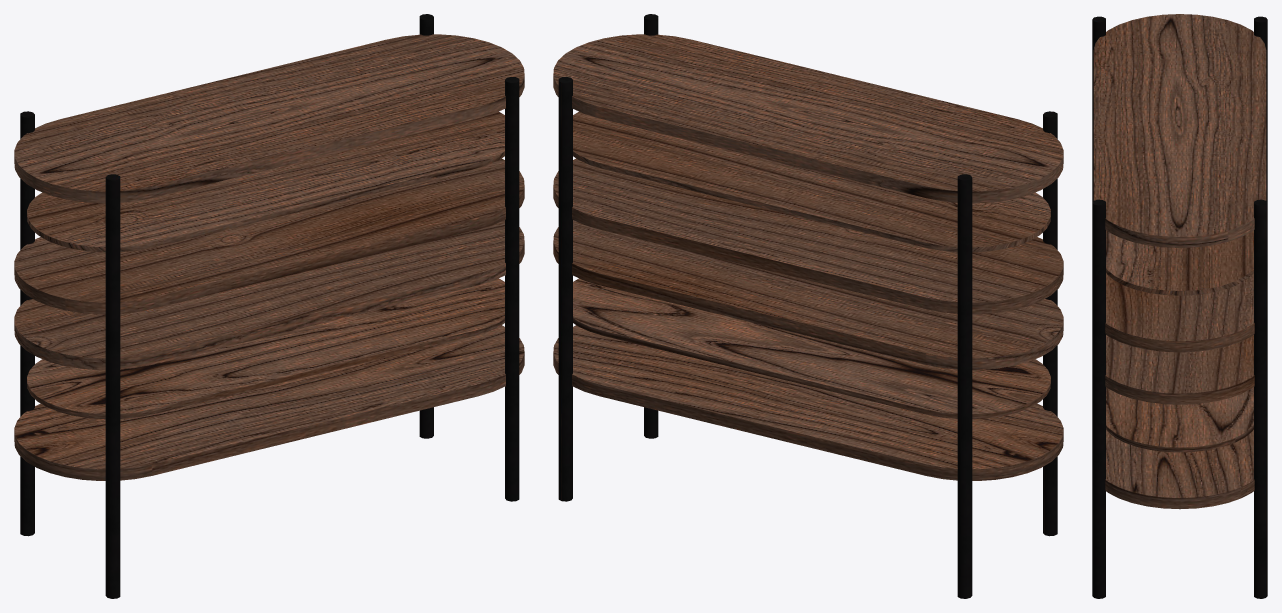
File: meja_susun.fbx
3 views of the same model, side by side, from view 1: azimuth 30°, elevation 25°; view 2: azimuth 150°, elevation 25°; view 3: azimuth 270°, elevation 25° (orthographic). The views are drawn at different scales.
Visible parts, largest first — view 1: Cylinder.033, Cylinder.032, Cylinder.027, Cylinder.028, Cylinder.034, Cylinder.029, Cylinder.035; view 2: Cylinder.033, Cylinder.032, Cylinder.027, Cylinder.028, Cylinder.034, Cylinder.029, Cylinder.035; view 3: Cylinder.033, Cylinder.035, Cylinder.032, Cylinder.027, Cylinder.028, Cylinder.029, Cylinder.034.
Boxes of the visible parts, bbox=[...] form: Cylinder.033: bbox=[14, 34, 524, 203]; Cylinder.032: bbox=[14, 158, 524, 314]; Cylinder.027: bbox=[14, 325, 524, 480]; Cylinder.028: bbox=[14, 220, 524, 369]; Cylinder.034: bbox=[27, 111, 504, 252]; Cylinder.029: bbox=[27, 278, 504, 419]; Cylinder.035: bbox=[20, 14, 519, 598]; Cylinder.033: bbox=[553, 34, 1063, 203]; Cylinder.032: bbox=[553, 158, 1063, 314]; Cylinder.027: bbox=[553, 325, 1063, 480]; Cylinder.028: bbox=[553, 220, 1063, 369]; Cylinder.034: bbox=[573, 111, 1050, 252]; Cylinder.029: bbox=[573, 278, 1050, 419]; Cylinder.035: bbox=[558, 14, 1057, 598]; Cylinder.033: bbox=[1093, 14, 1266, 247]; Cylinder.035: bbox=[1092, 16, 1267, 598]; Cylinder.032: bbox=[1105, 273, 1254, 352]; Cylinder.027: bbox=[1105, 430, 1254, 509]; Cylinder.028: bbox=[1105, 335, 1254, 404]; Cylinder.029: bbox=[1106, 387, 1253, 452]; Cylinder.034: bbox=[1106, 230, 1253, 295].
Size of the model in its own units: 308 by 253 by 102.
1 material, 1 textured.
